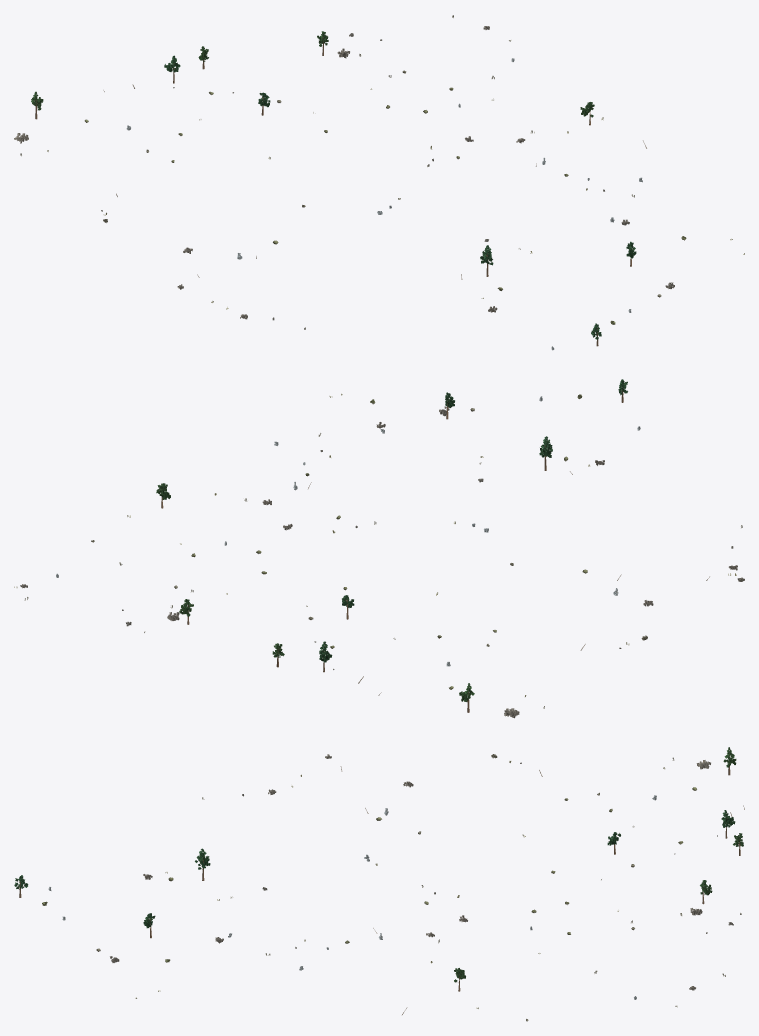
File: coast_land_scatter_c09_19.glb
3 renders of one model, top to bottom at view 1: azimuth 30°, elevation 25°; view 2: azimuth 150°, elevation 25°; view 3: azimuth 270°, elevation 25°, orthographic. The views are drawn at different scales.
Parts seen in each view (by area): view 1: coast_land_scatter_c09_19; view 2: coast_land_scatter_c09_19; view 3: coast_land_scatter_c09_19.
Boxes of the visible parts, left/top/right/bottom form: coast_land_scatter_c09_19: left=14, top=15, right=744, bottom=350; coast_land_scatter_c09_19: left=14, top=379, right=744, bottom=718; coast_land_scatter_c09_19: left=14, top=747, right=744, bottom=1021.
Bounding box in the file's own units: 191 × 21.55 × 236.
